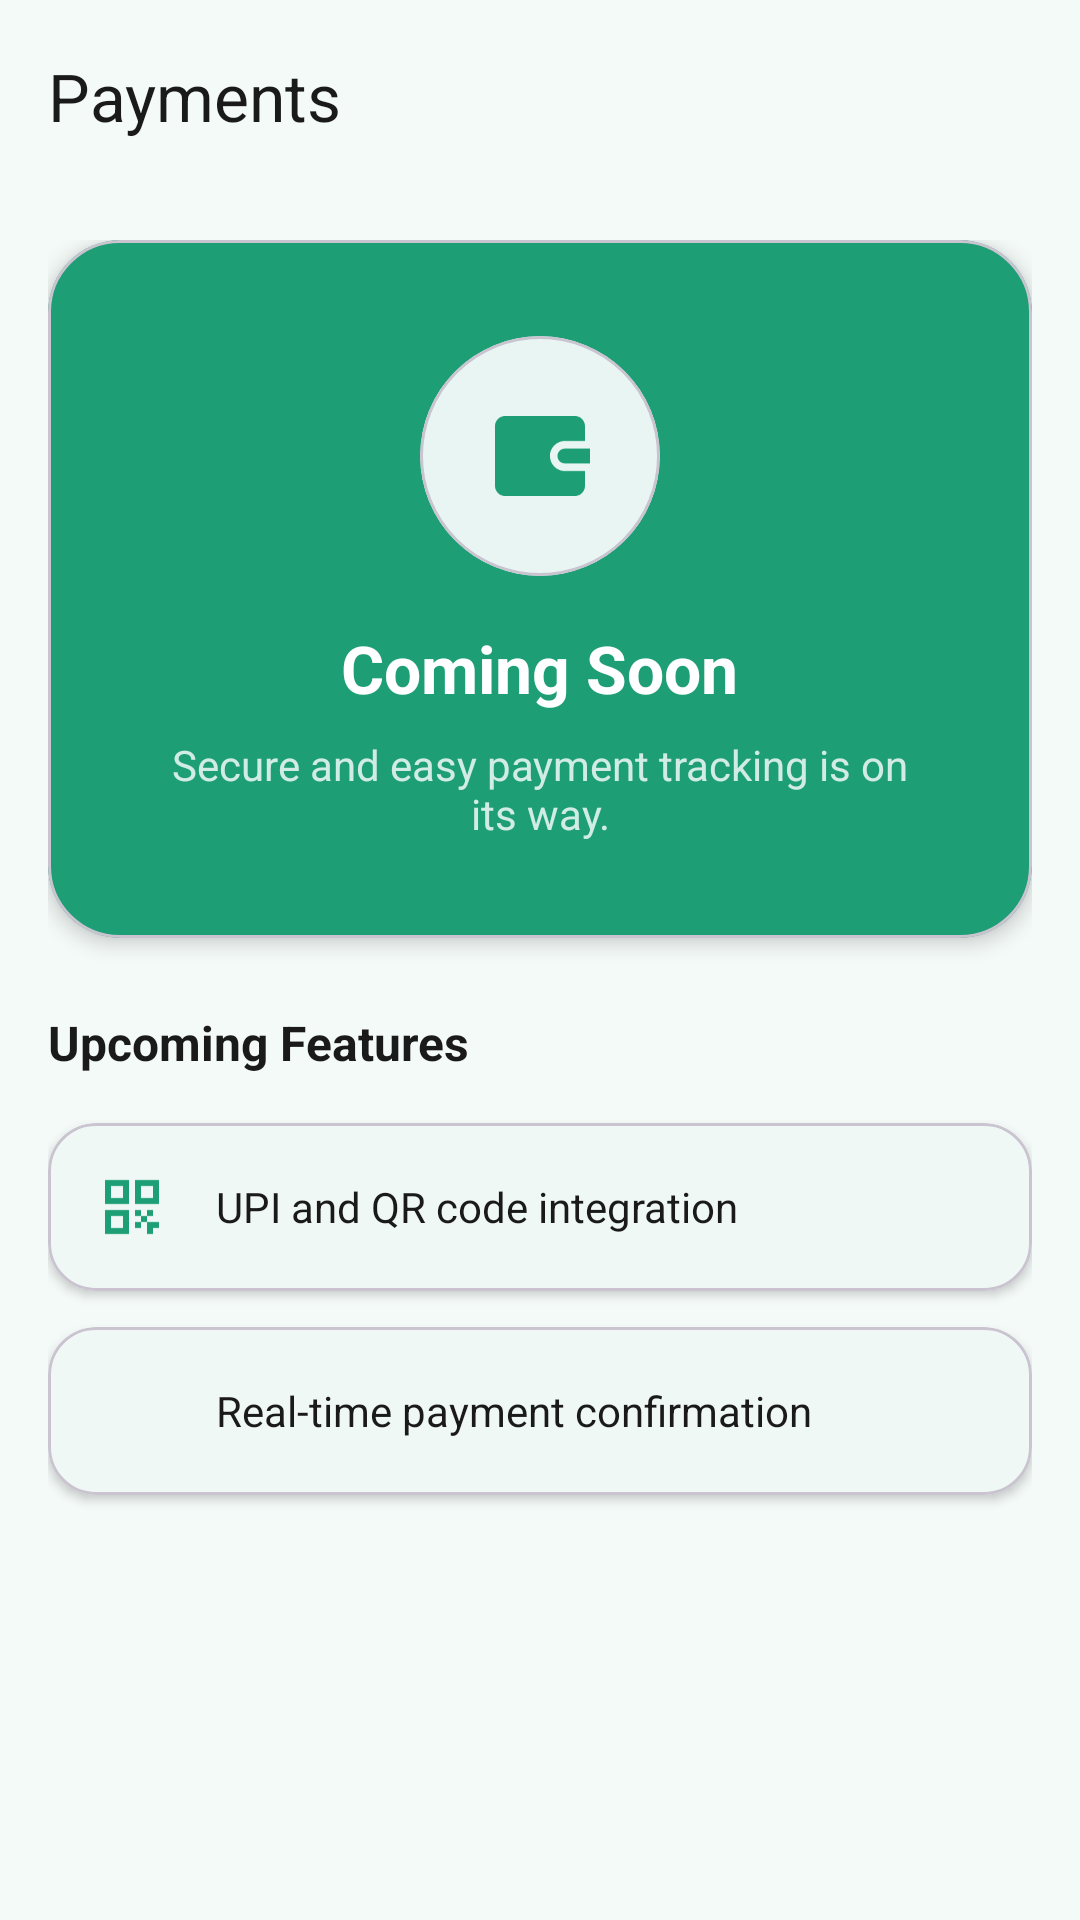

Icon click points for this 1080 x 1920 phone screenshot, format (x,y):
reports payments: (542,456)
